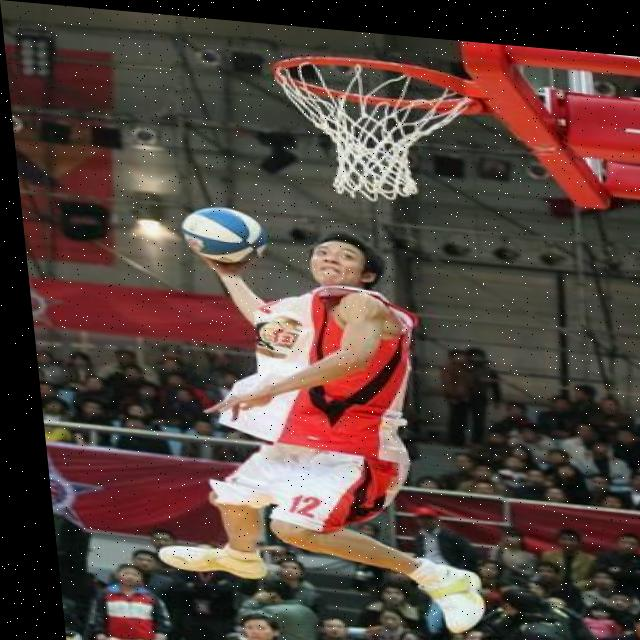basketball: (184, 205, 271, 267)
hoop: (272, 52, 492, 210)
